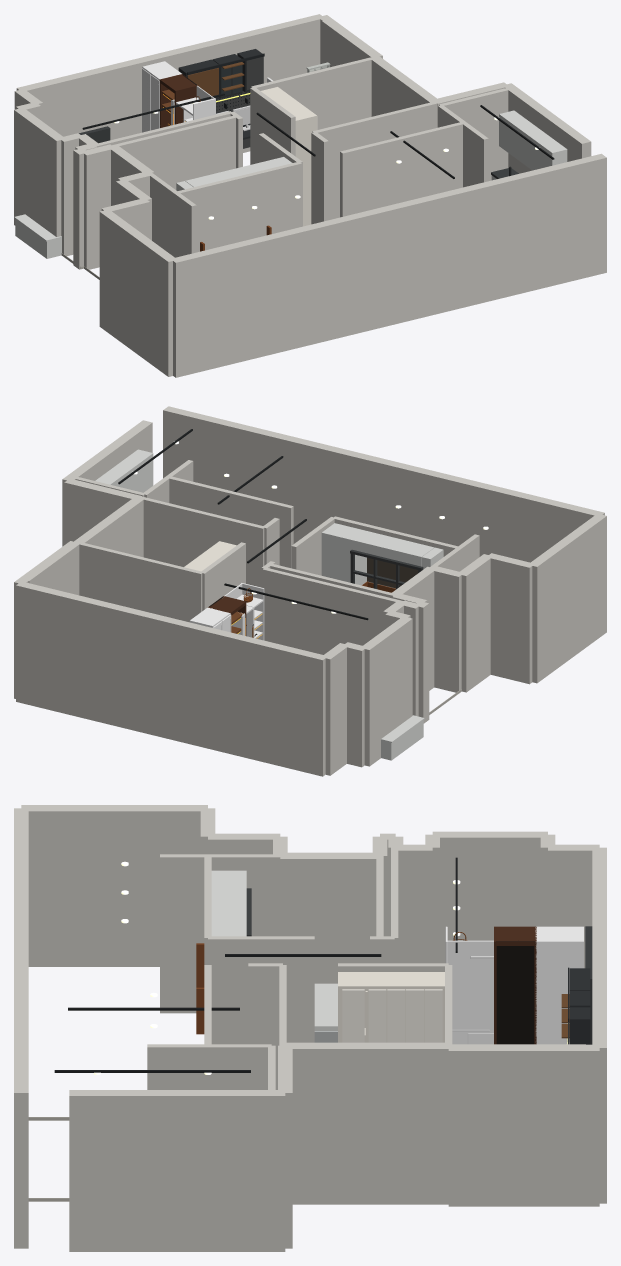
Rendered from house_interior_secondary_beds_cabinets_together_v57.glb.
3 renders of one model, top to bottom at view 1: azimuth 30°, elevation 25°; view 2: azimuth 150°, elevation 25°; view 3: azimuth 270°, elevation 25°, orthographic. The views are drawn at different scales.
Parts seen in each view (by area): view 1: WALL_EXT_007, WALL_EXT_001, WALL_EXT_008, WALL_INT_019, WALL_INT_015, WALL_INT_013, WALL_EXT_018, WALL_INT_024, WALL_INT_016, WALL_INT_014, WALL_EXT_013, WALL_EXT_006 (+23 smaller); view 2: WALL_EXT_001, WALL_EXT_007, WALL_EXT_008, WALL_INT_012, WALL_INT_024, WALL_INT_016, WALL_EXT_018, WALL_EXT_009, WALL_INT_019, WALL_EXT_010, WALL_EXT_011, WALL_EXT_020 (+25 smaller); view 3: WALL_EXT_006, WALL_EXT_004, WALL_EXT_002, WALL_EXT_008, WALL_EXT_018, WALL_INT_014, WALL_EXT_012, WALL_INT_005, WALL_EXT_007, WALL_INT_017, FURN_MASTER_WARDROBE_13_WARDROBE_LEFT_CARCASS, WALL_EXT_001 (+34 smaller).
Part boxes in pixels (x1,y1,x2,y2): WALL_EXT_007: [171, 153, 606, 377]; WALL_EXT_001: [16, 14, 324, 152]; WALL_EXT_008: [99, 209, 175, 376]; WALL_INT_019: [340, 122, 463, 217]; WALL_INT_015: [177, 162, 301, 252]; WALL_INT_013: [87, 115, 235, 189]; WALL_EXT_018: [14, 109, 62, 236]; WALL_INT_024: [251, 57, 375, 129]; WALL_INT_016: [312, 102, 437, 219]; WALL_INT_014: [111, 146, 196, 257]; WALL_EXT_013: [81, 144, 112, 269]; WALL_EXT_006: [504, 83, 591, 173]; WALL_EXT_001: [16, 581, 327, 776]; WALL_EXT_007: [163, 406, 604, 562]; WALL_EXT_008: [528, 514, 606, 683]; WALL_INT_012: [262, 568, 403, 654]; WALL_INT_024: [79, 543, 202, 622]; WALL_INT_016: [140, 496, 265, 587]; WALL_EXT_018: [360, 616, 412, 766]; WALL_EXT_009: [486, 553, 532, 684]; WALL_INT_019: [169, 476, 293, 567]; WALL_EXT_010: [457, 554, 490, 692]; WALL_EXT_011: [433, 566, 461, 692]; WALL_EXT_020: [324, 643, 348, 775]; WALL_EXT_006: [69, 1090, 285, 1251]; WALL_EXT_004: [285, 1042, 448, 1204]; WALL_EXT_002: [448, 1044, 599, 1206]; WALL_EXT_008: [21, 805, 207, 966]; WALL_EXT_018: [432, 831, 547, 963]; WALL_INT_014: [160, 854, 379, 1013]; WALL_EXT_012: [280, 852, 379, 983]; WALL_INT_005: [208, 936, 314, 1044]; WALL_EXT_007: [14, 808, 28, 1248]; WALL_INT_017: [147, 1044, 271, 1089]; FURN_MASTER_WARDROBE_13_WARDROBE_LEFT_CARCASS: [535, 926, 583, 1044]; WALL_EXT_001: [592, 847, 606, 1203].
Size of the model in its own units: 11.22 by 2.83 by 9.66.
